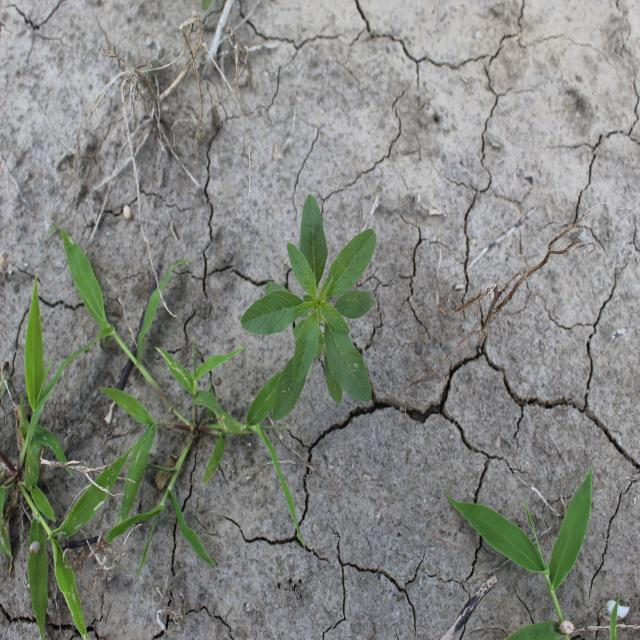Waterhemp: (240, 193, 378, 424)
